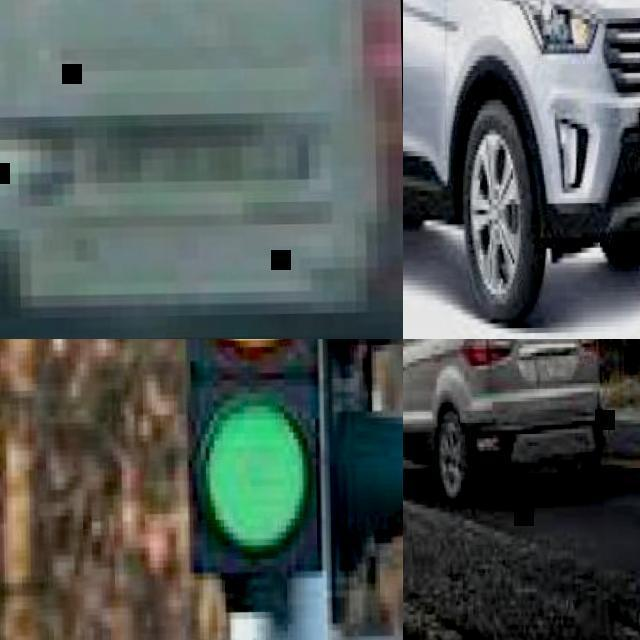car: (553, 0, 639, 90)
